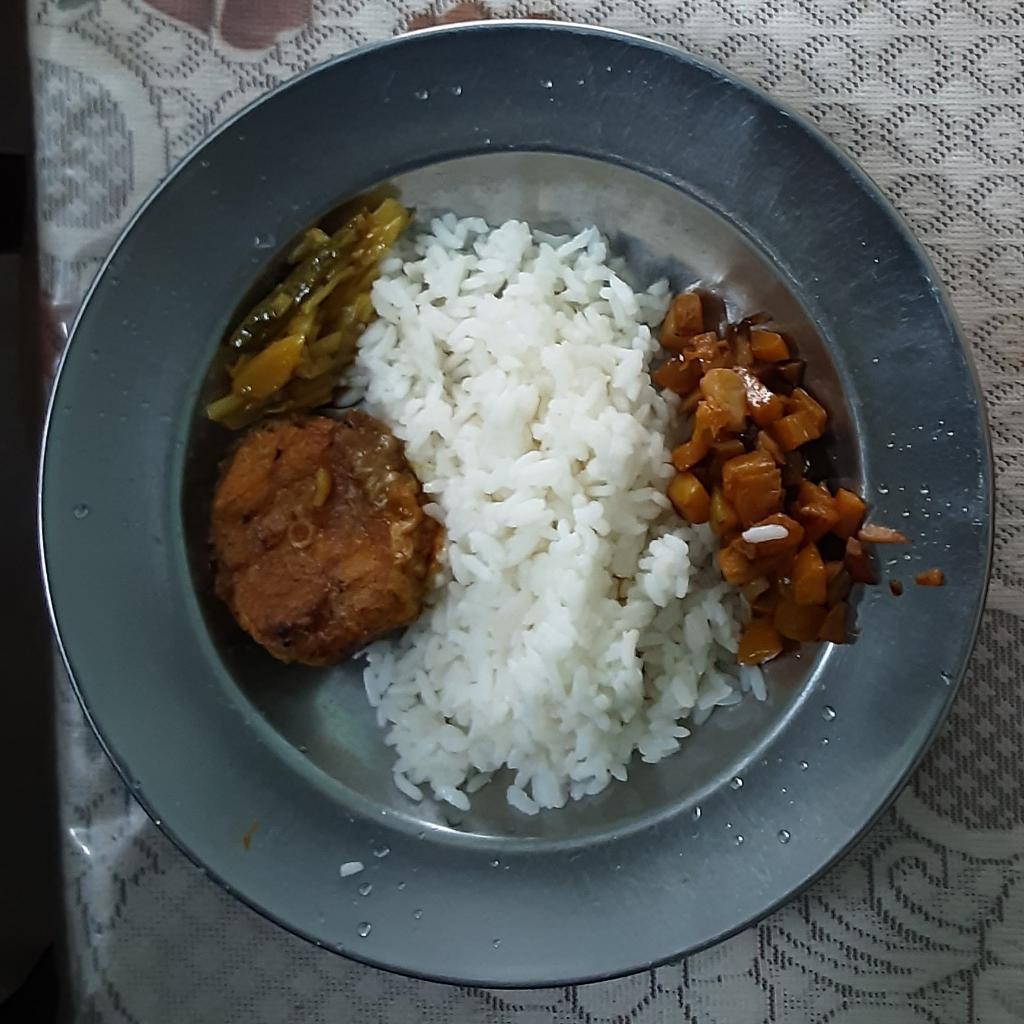fish: (207, 409, 451, 664)
kumra-vaji: (646, 289, 907, 673)
potato: (201, 197, 419, 427)
rice: (332, 207, 773, 812)
